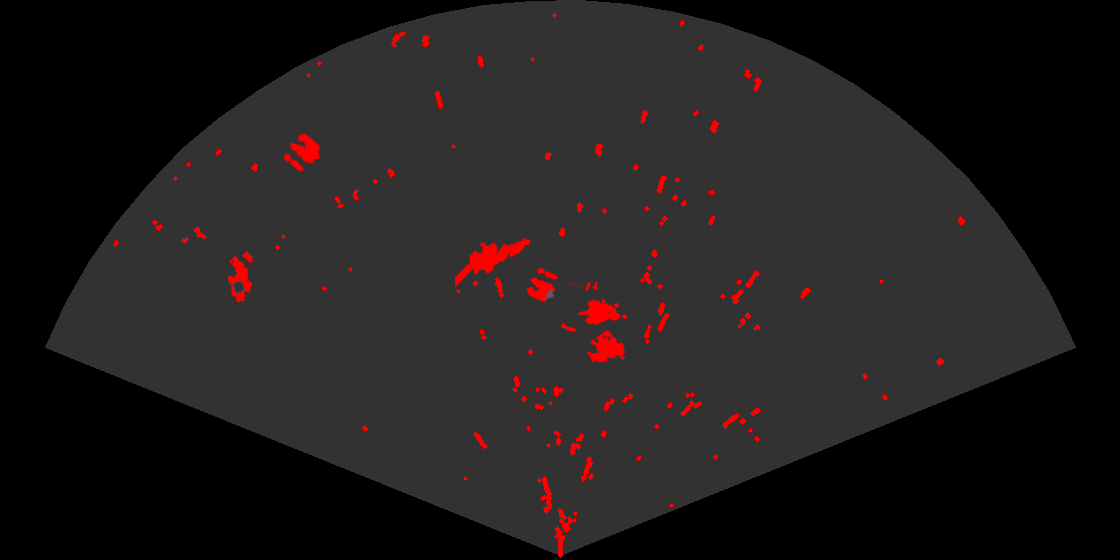AUV: (226, 254, 254, 304)
ball: (282, 132, 322, 173), (525, 266, 560, 304)
cage: (565, 282, 629, 364)
frogman: (455, 236, 532, 289)
